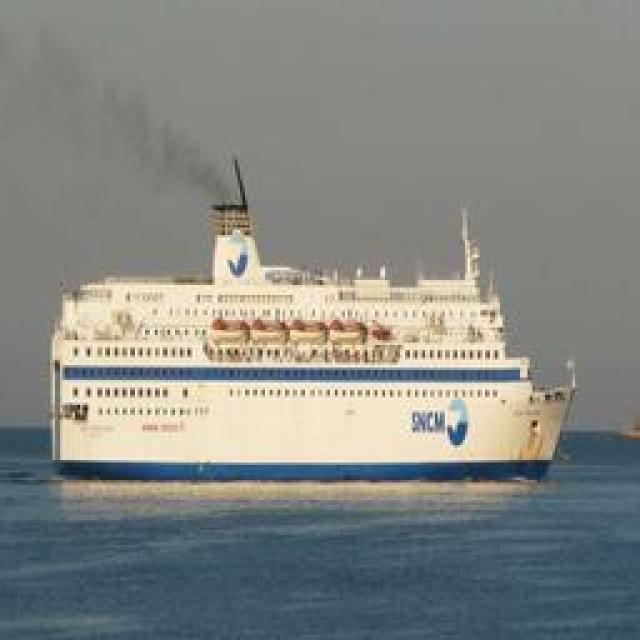CIV_Ship: (40, 178, 575, 482)
